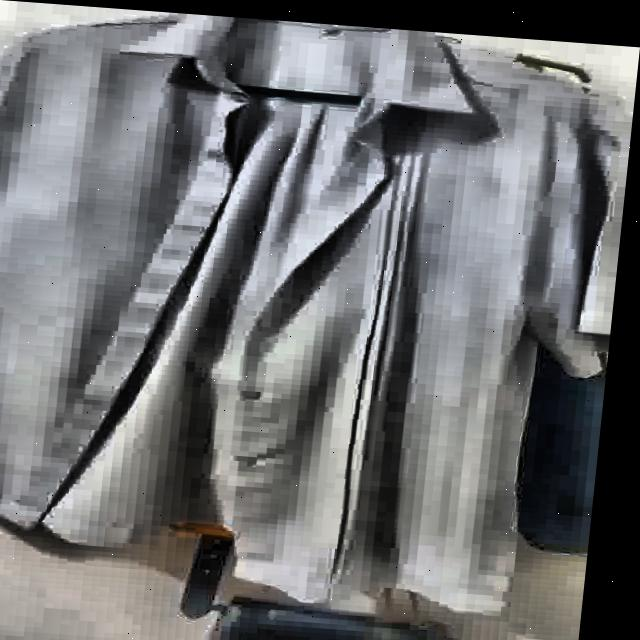clothes: (0, 0, 640, 619)
